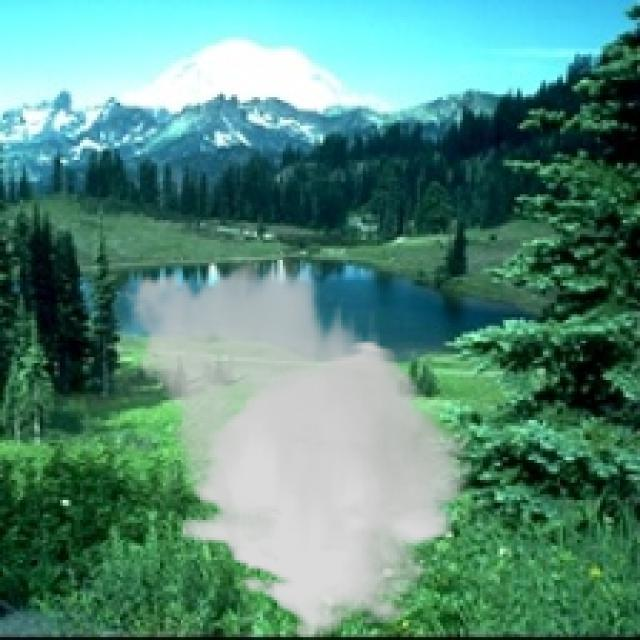Smoke: (114, 248, 474, 638)
